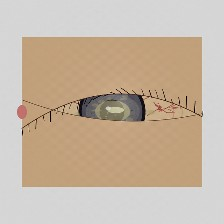corneal_ulcer: (84, 89, 141, 134)
